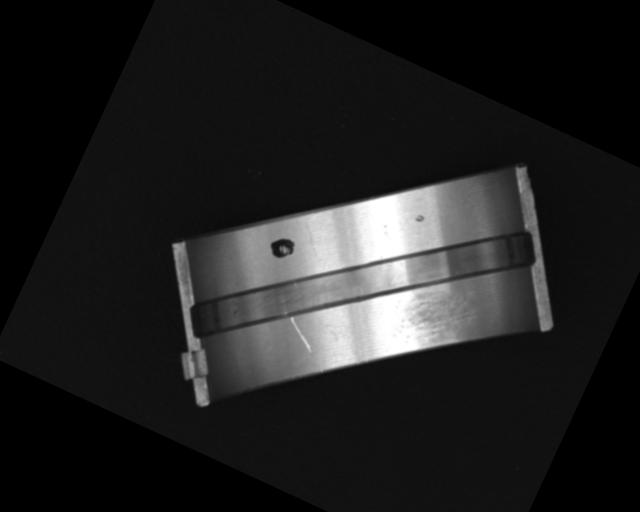blot: (265, 231, 299, 265)
bruise: (412, 212, 426, 226)
gap: (180, 120, 543, 453)
nick: (281, 315, 323, 353), (294, 222, 328, 258)
scratch: (381, 274, 483, 373)
